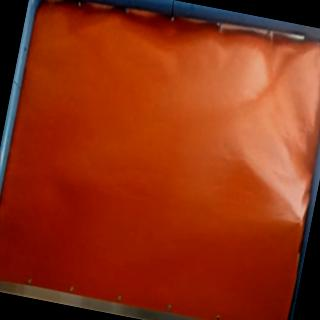Hit-hRxx: (292, 213, 306, 230)
